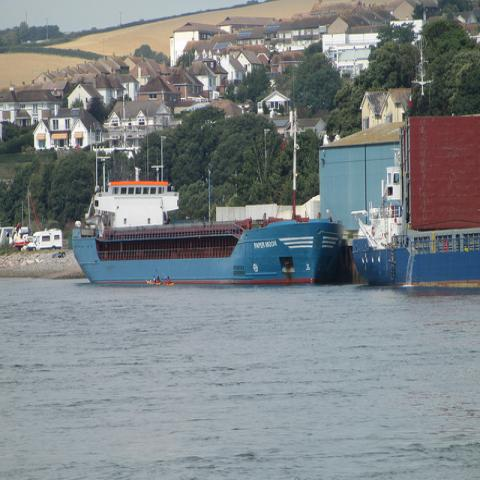truck: (26, 229, 63, 251)
